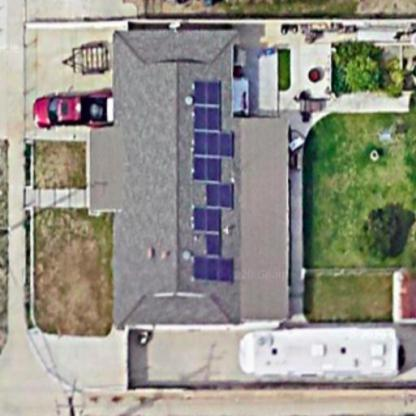car: (238, 320, 413, 385), (26, 90, 123, 134)
solar_panel: (181, 74, 238, 286)
